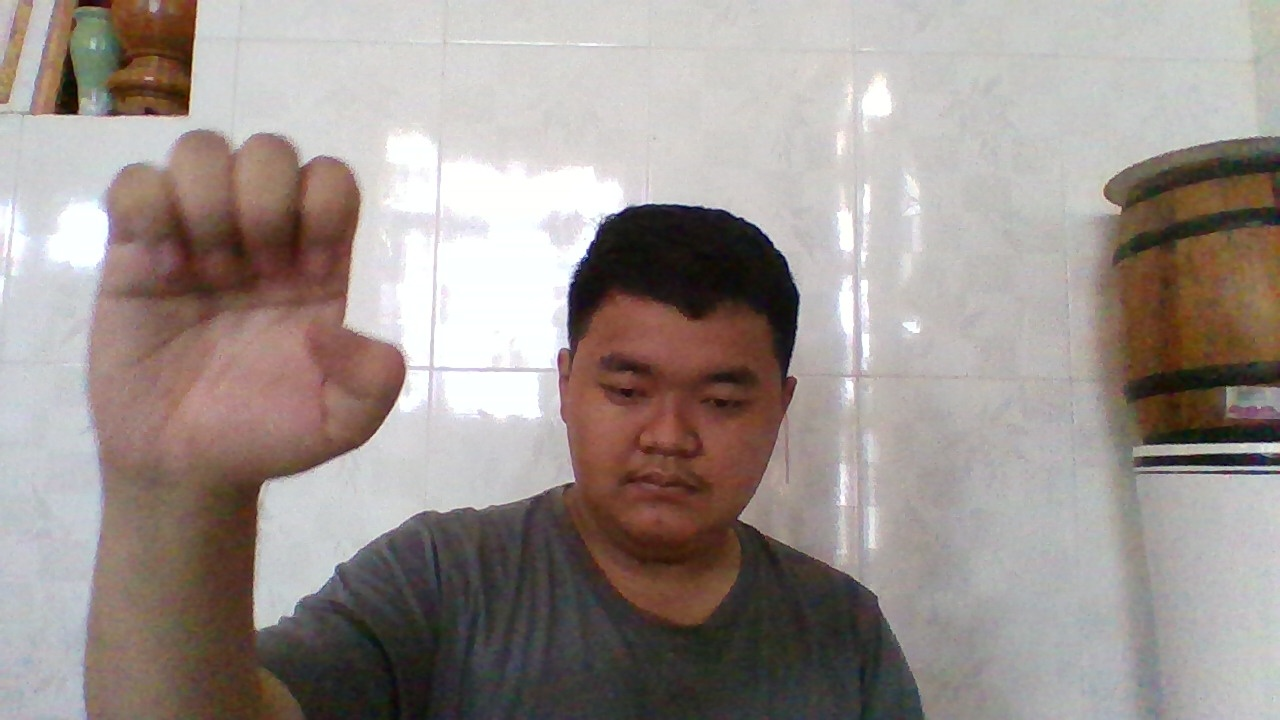E: (118, 133, 403, 481)
